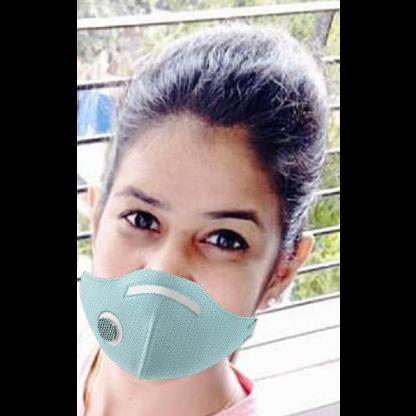FFP Mask: (82, 93, 276, 366)
